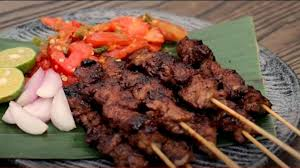sate: (50, 26, 271, 168)
